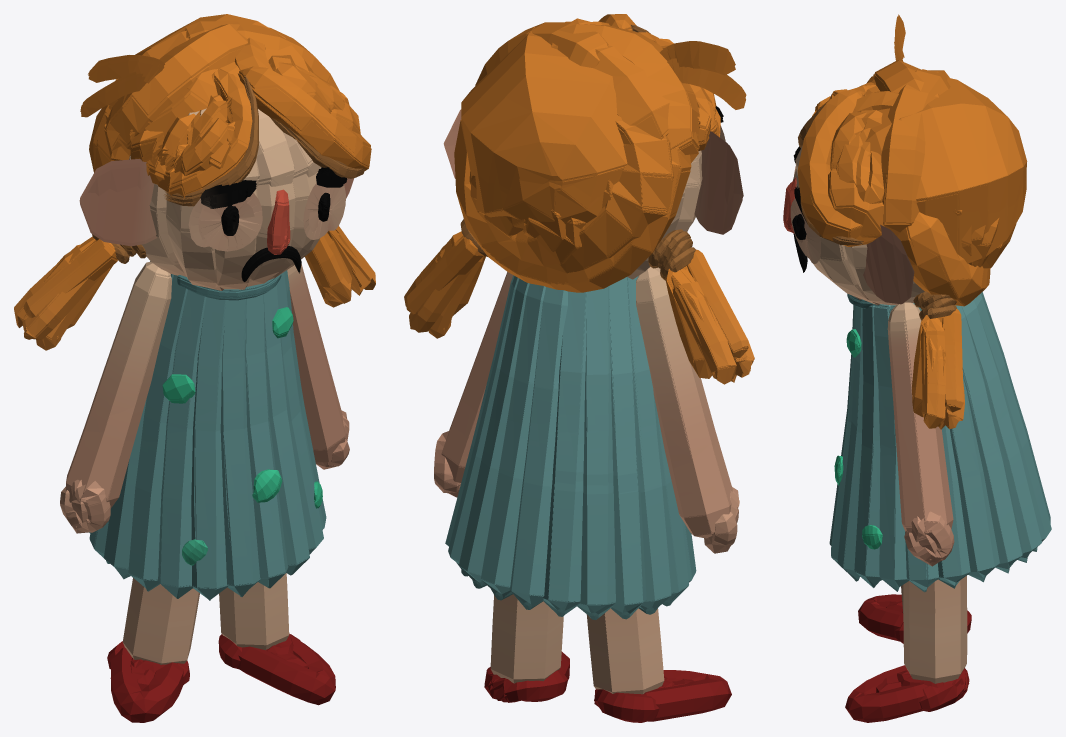
The model's file is girlsadidle.fbx.
3 renders of one model, left to right at view 1: azimuth 30°, elevation 25°; view 2: azimuth 150°, elevation 25°; view 3: azimuth 270°, elevation 25°, orthographic. The views are drawn at different scales.
Parts seen in each view (by area): view 1: Girl; view 2: Girl; view 3: Girl.
Boxes of the visible parts, box(x1,y1,x2,y2) form: Girl: box(14, 14, 375, 722); Girl: box(404, 14, 754, 722); Girl: box(783, 14, 1051, 722).
Size of the model in its own units: 0.9244 by 1.74 by 0.6871.
